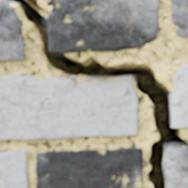brick: (0, 76, 138, 140), (48, 0, 159, 56), (36, 148, 143, 187), (0, 1, 25, 61), (169, 65, 187, 128), (0, 150, 29, 187), (163, 143, 187, 187), (171, 0, 187, 38)
crack: (0, 0, 186, 187)
